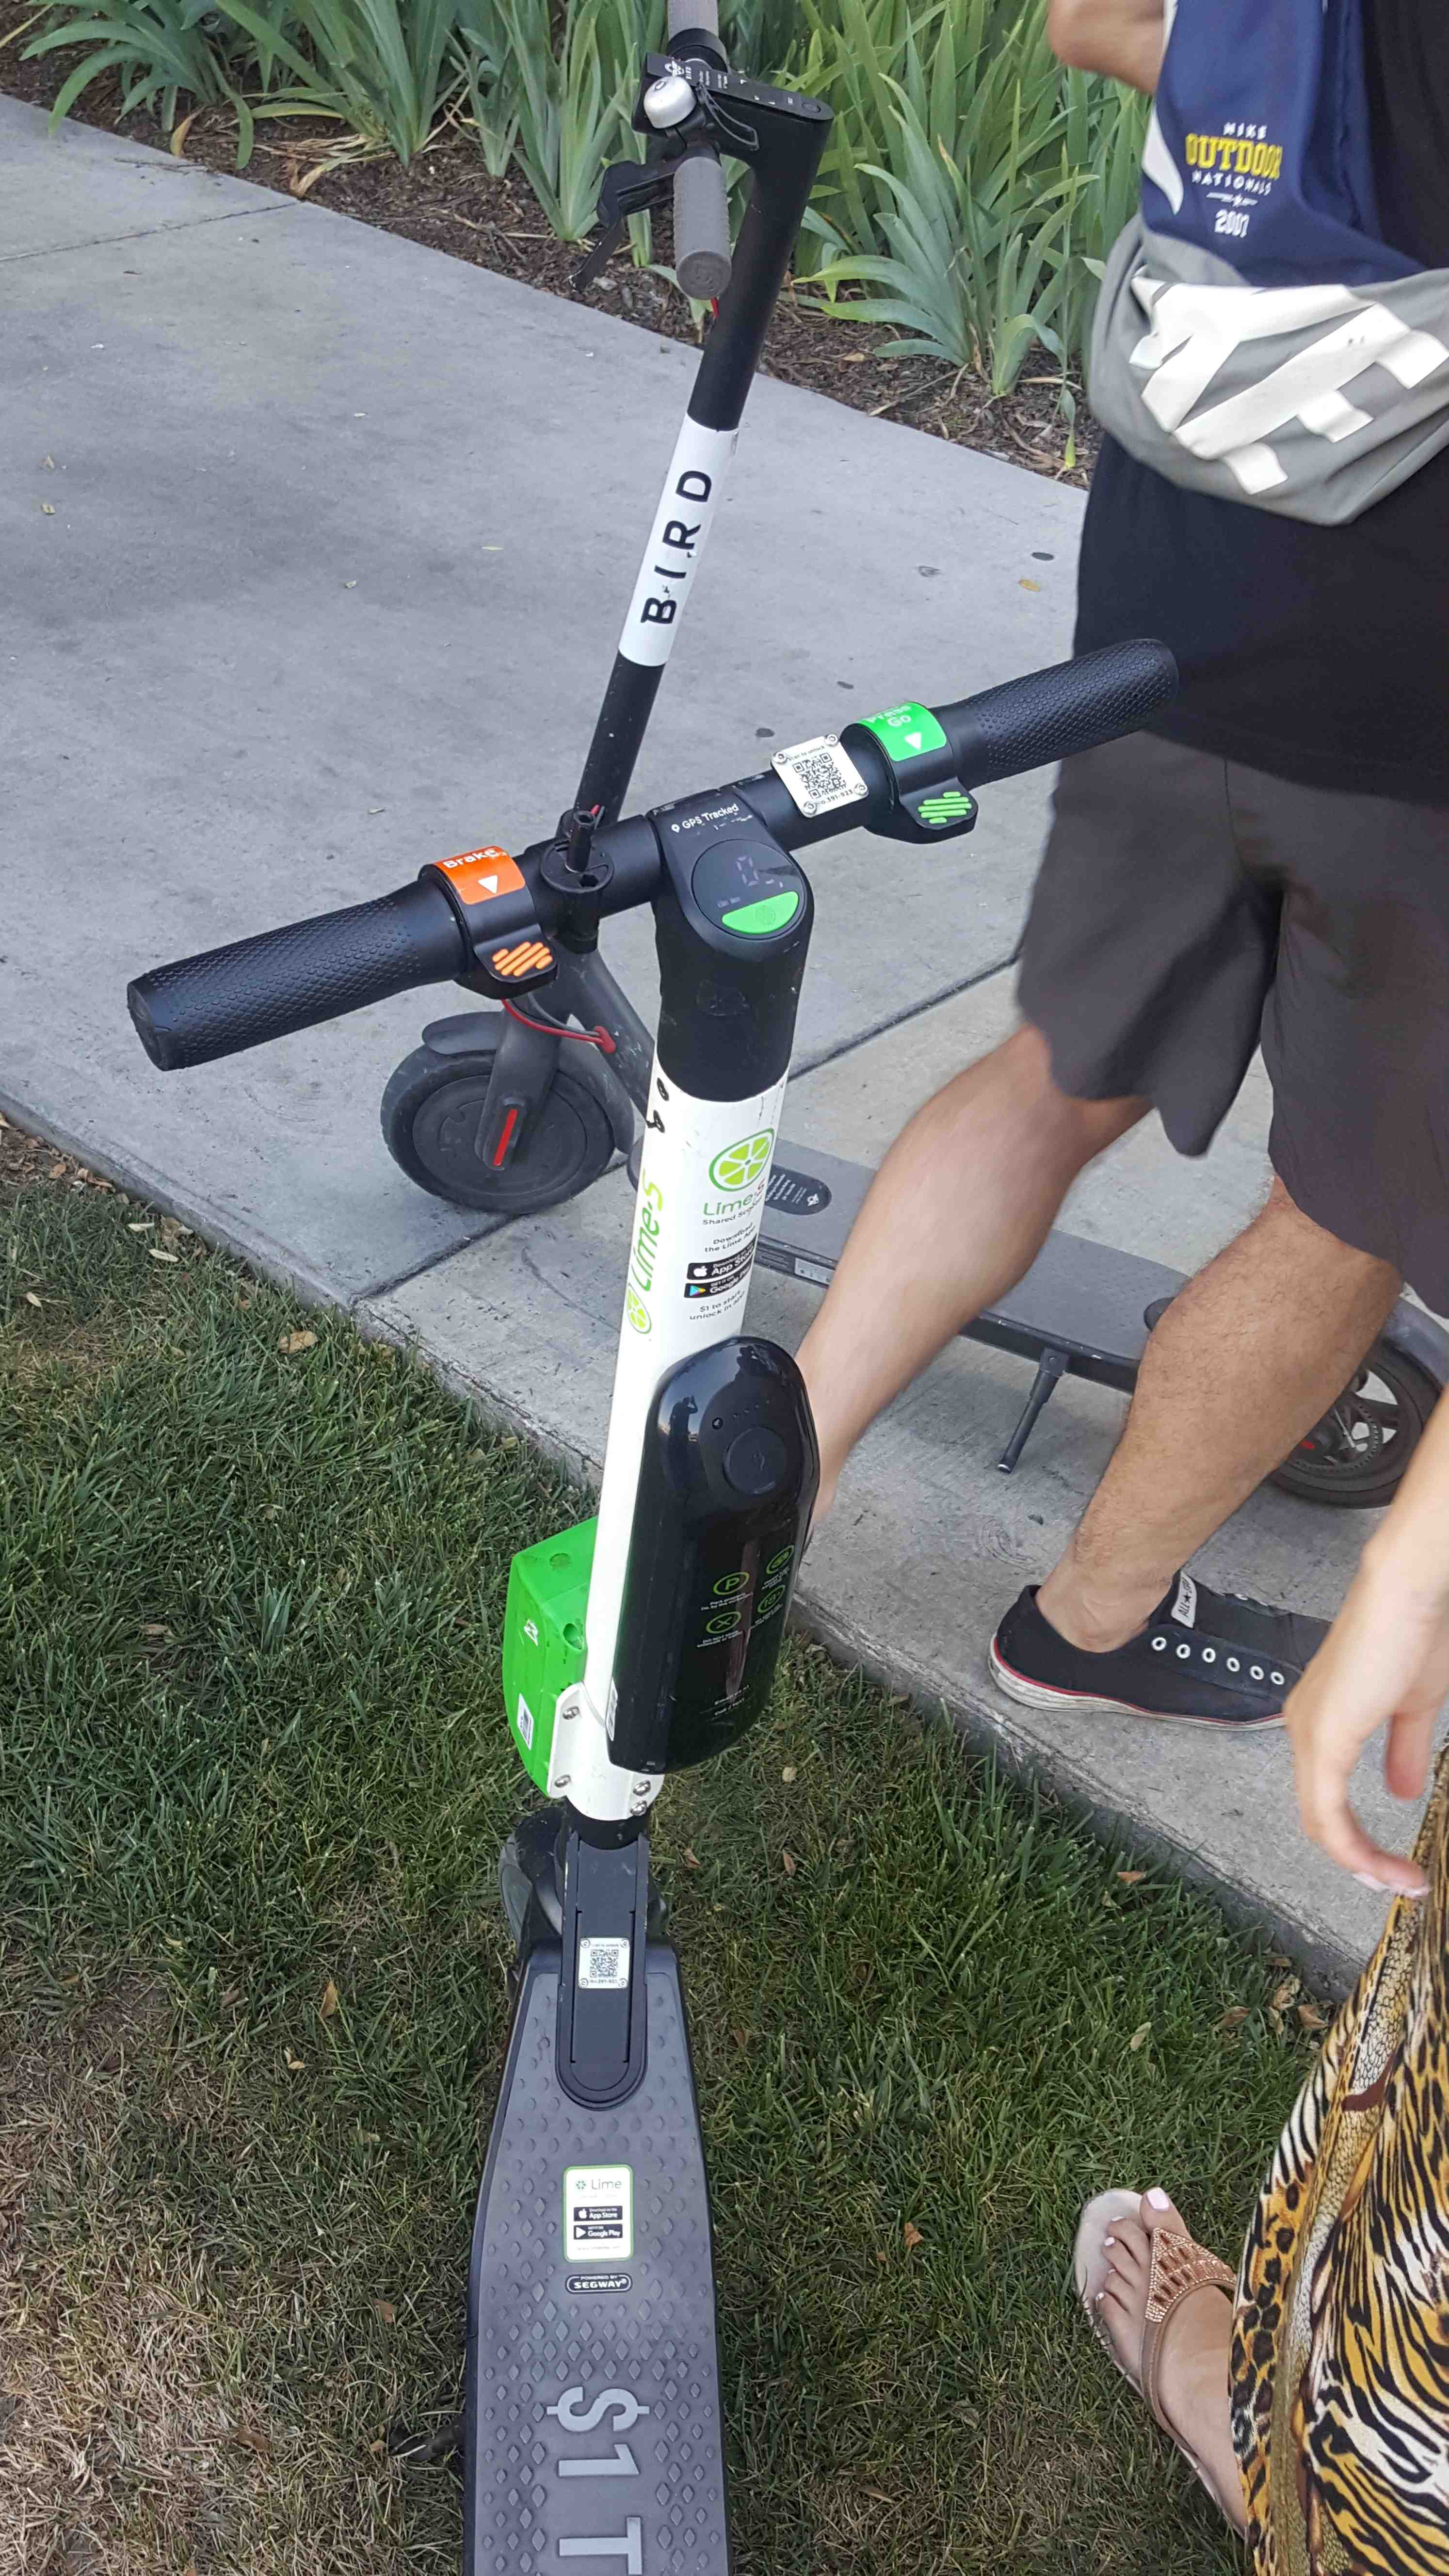scooter: (161, 632, 1407, 2576)
